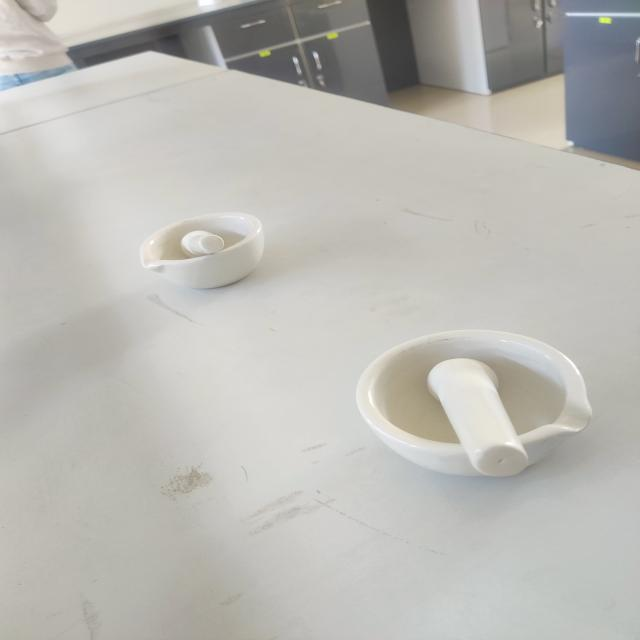Porcelain_Mortar Pestle: (335, 303, 596, 510), (112, 180, 290, 310)
